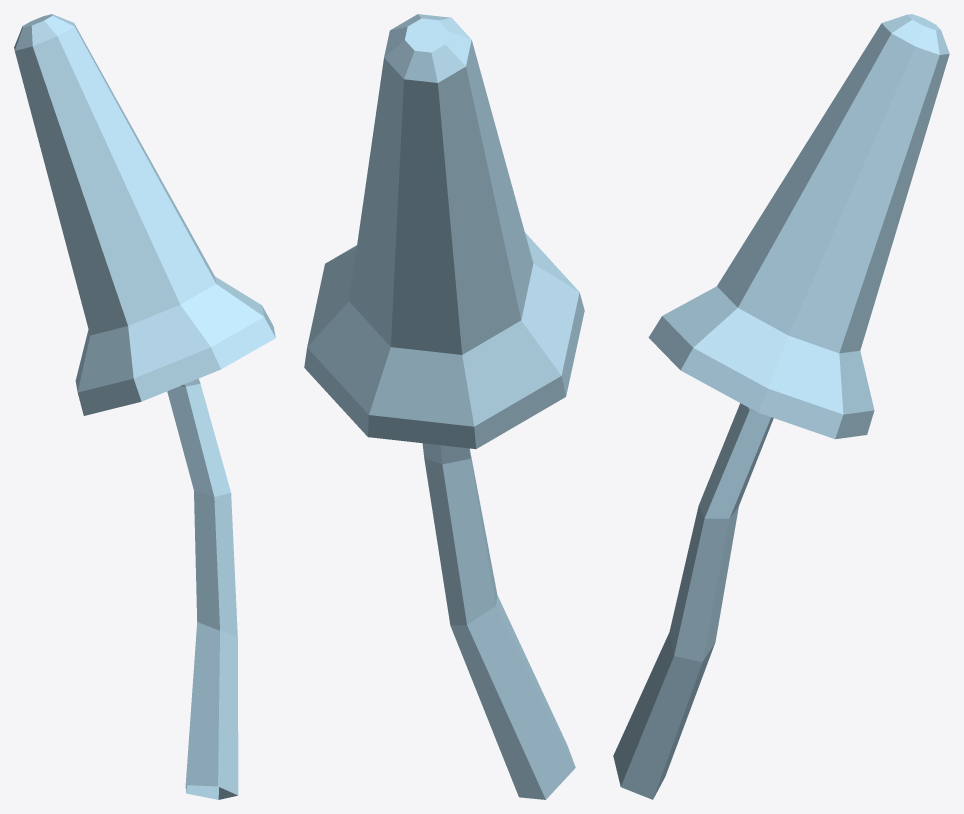
The model's file is Mushrooms_11.fbx.
The picture shows the model from 3 angles, left to right: view 1: azimuth 30°, elevation 25°; view 2: azimuth 150°, elevation 25°; view 3: azimuth 270°, elevation 25°; orthographic projection. The views are drawn at different scales.
Visible parts, largest first — view 1: Mushrooms_11; view 2: Mushrooms_11; view 3: Mushrooms_11.
Boxes of the visible parts, box(x1,y1,x2,y2) form: Mushrooms_11: box(14, 14, 275, 799); Mushrooms_11: box(304, 14, 584, 799); Mushrooms_11: box(613, 14, 949, 799).
Size of the model in its own units: 0.2451 by 0.3489 by 0.8658.
